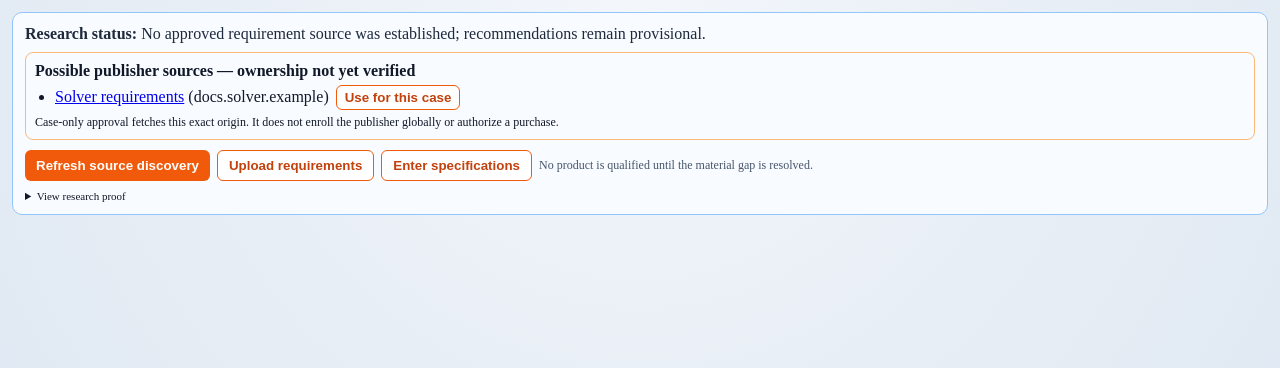
research truth panels › requires a distinct case-only approval before fetching a discovered origin
Expected: the text "does not enroll the publisher globally" is shown, [35,115,559,129]
Click the button "Use for this case" at (398, 98), box [336,85,460,110]
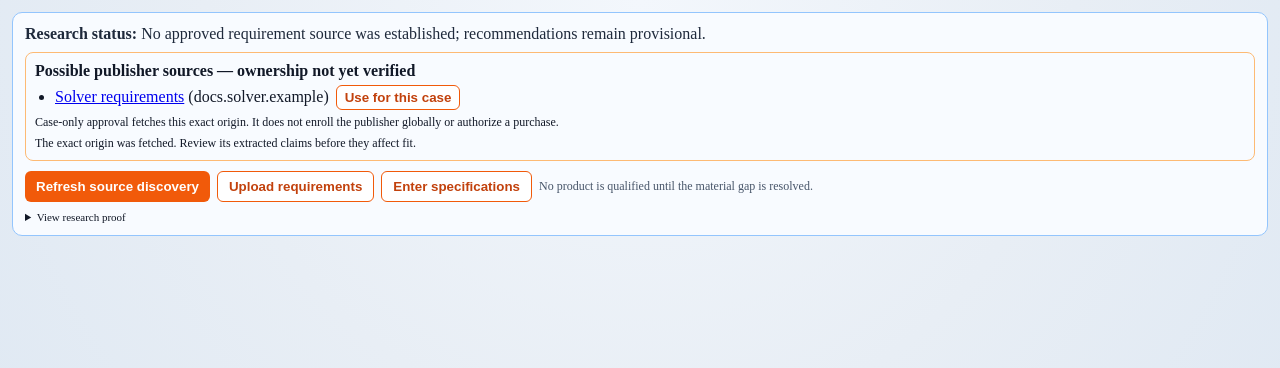
Now the message shows "Review its extracted claims", box [35,136,416,150]
